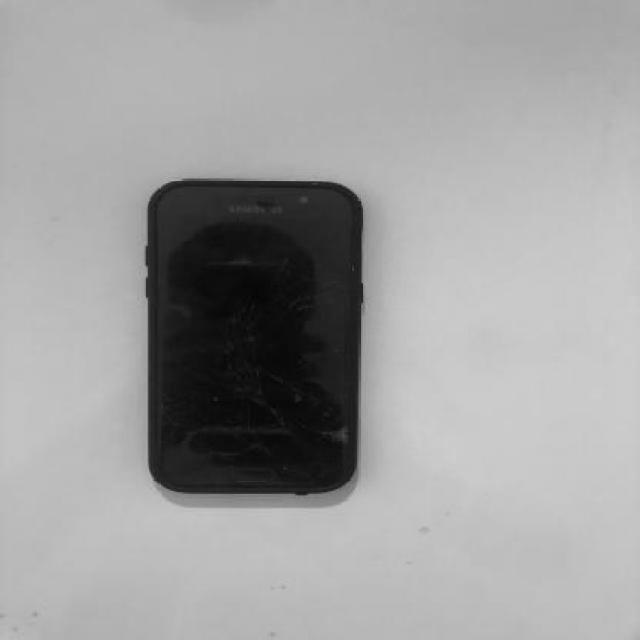fake: (152, 178, 368, 496)
